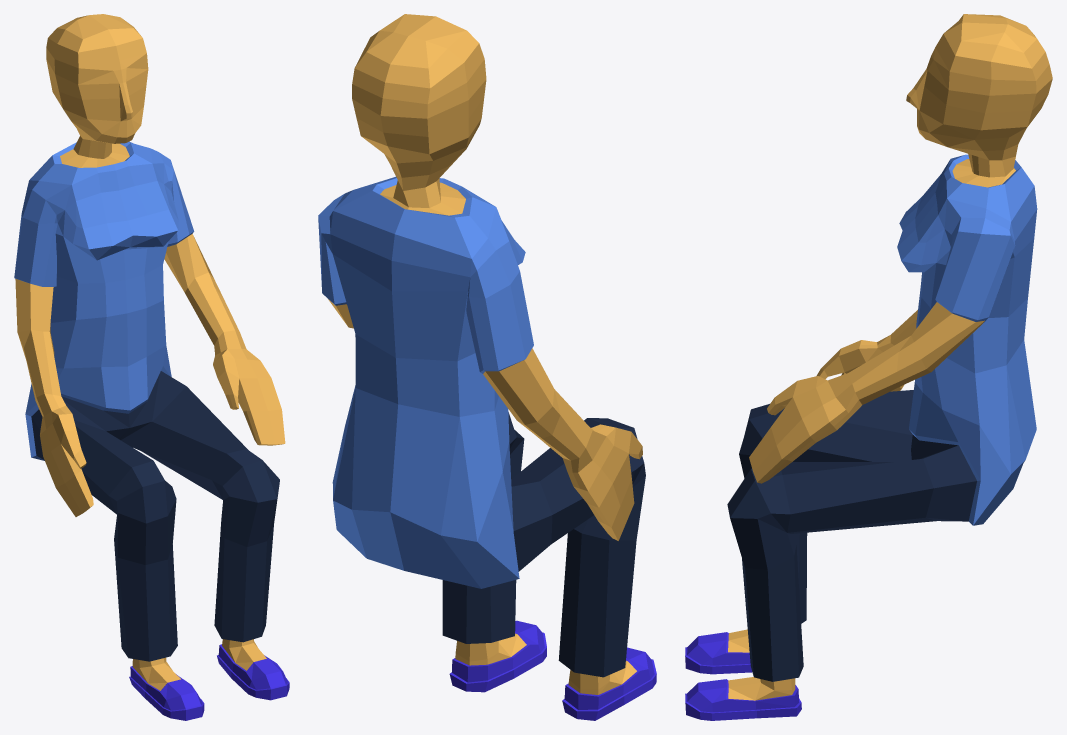
Rendered from LPC_WomanSitting.fbx.
The picture shows the model from 3 angles, left to right: view 1: azimuth 30°, elevation 25°; view 2: azimuth 150°, elevation 25°; view 3: azimuth 270°, elevation 25°; orthographic projection. The views are drawn at different scales.
Parts seen in each view (by area): view 1: Female_Sitting; view 2: Female_Sitting; view 3: Female_Sitting.
Boxes of the visible parts, box(x1,y1,x2,y2) form: Female_Sitting: box(14, 14, 289, 720); Female_Sitting: box(318, 14, 656, 720); Female_Sitting: box(685, 14, 1052, 720).
Bounding box in the file's own units: 0.3692 × 1.07 × 0.5399.
